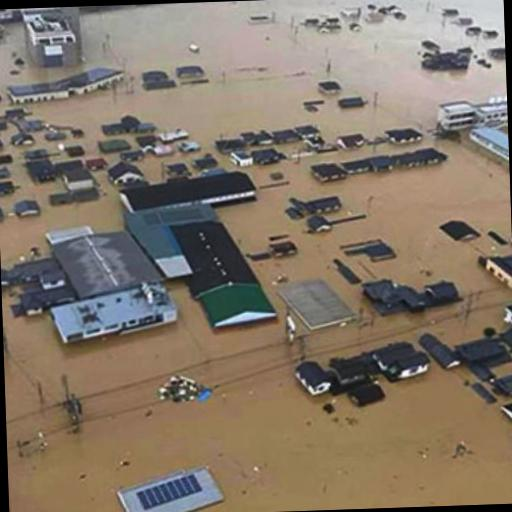flood: (1, 282, 512, 512), (28, 0, 506, 172), (216, 137, 512, 312), (0, 122, 124, 267), (0, 21, 83, 101), (132, 143, 208, 183), (61, 117, 120, 165), (0, 101, 9, 114)
house: (31, 220, 178, 334), (166, 200, 280, 336), (115, 166, 253, 220), (113, 465, 224, 512), (276, 276, 358, 336), (22, 6, 80, 66), (436, 94, 508, 134), (376, 345, 432, 379), (466, 124, 508, 165), (295, 358, 331, 398), (485, 253, 512, 291), (108, 160, 144, 184), (399, 149, 442, 166), (314, 161, 345, 184), (62, 168, 94, 190), (370, 152, 396, 172), (15, 200, 40, 218), (229, 150, 254, 167), (346, 156, 372, 172), (298, 124, 320, 138), (276, 129, 298, 143), (11, 131, 33, 145), (256, 128, 274, 145)
